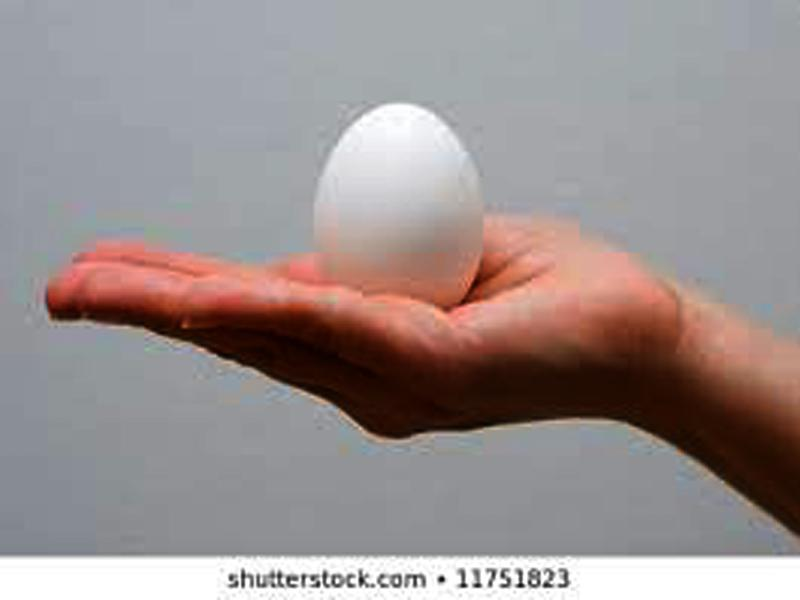Eggs: (314, 104, 474, 309)
